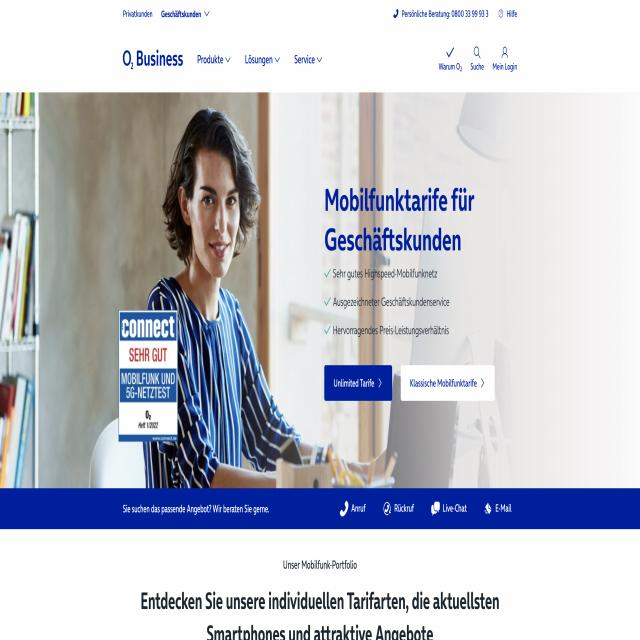Logo: (110, 33, 192, 88)
Navigation: (195, 45, 529, 83)
